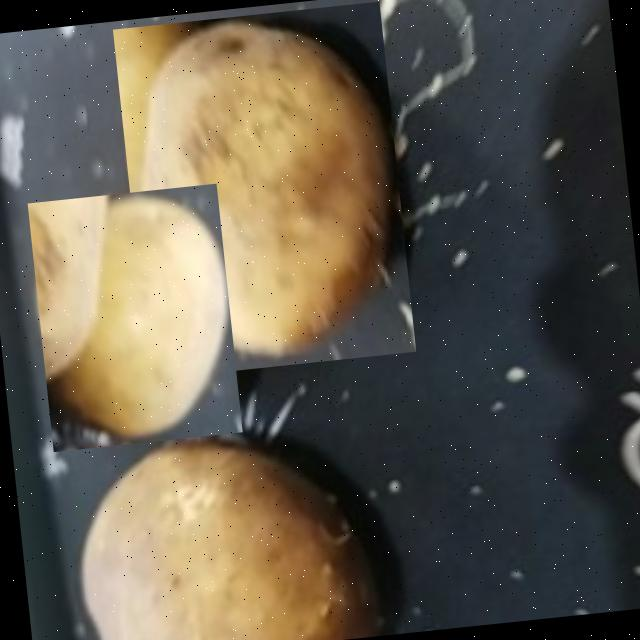Damaged potato: (112, 0, 416, 378)
Potato: (65, 422, 388, 640), (27, 182, 242, 451)
